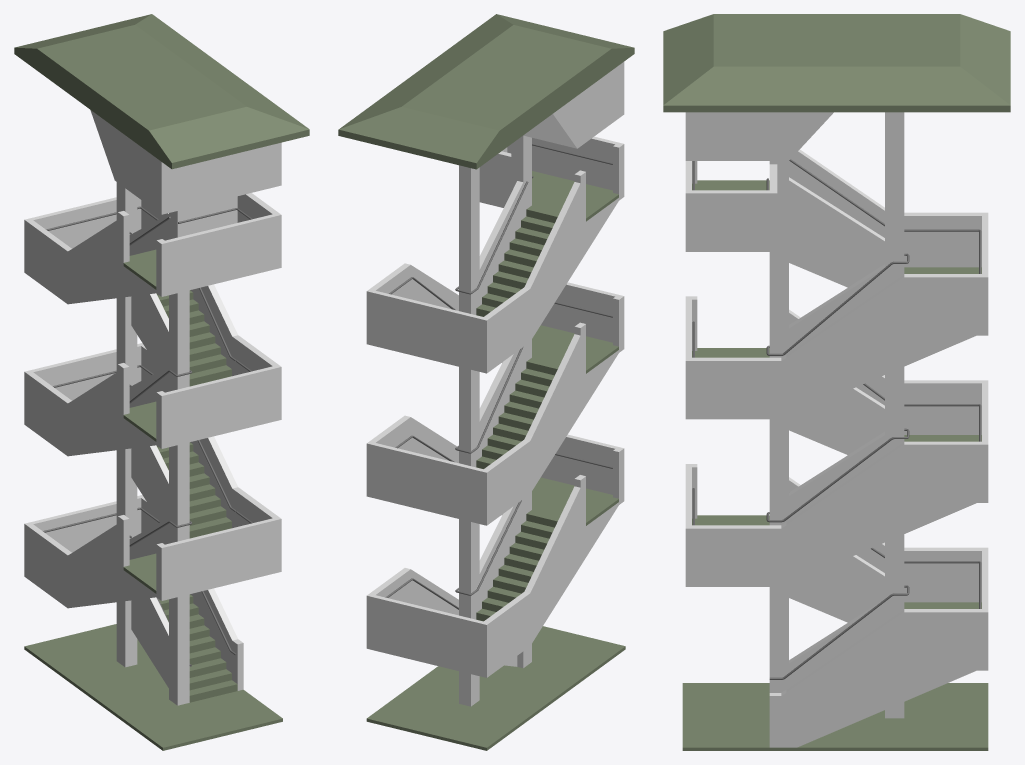
The model's file is ttubuildings1.fbx.
The picture shows the model from 3 angles, left to right: view 1: azimuth 30°, elevation 25°; view 2: azimuth 150°, elevation 25°; view 3: azimuth 270°, elevation 25°; orthographic projection. The views are drawn at different scales.
Parts seen in each view (by area): view 1: Cube.088, Cube.065, Vert.009; view 2: Cube.088, Cube.065, Vert.009; view 3: Cube.088, Cube.065, Vert.009.
Part boxes in pixels (left/top/right/bottom): Cube.088: left=24, top=110, right=281, bottom=705; Cube.065: left=14, top=14, right=309, bottom=750; Vert.009: left=43, top=206, right=252, bottom=666; Cube.088: left=366, top=62, right=624, bottom=706; Cube.065: left=338, top=14, right=634, bottom=750; Vert.009: left=385, top=143, right=612, bottom=609; Cube.088: left=685, top=112, right=988, bottom=747; Cube.065: left=663, top=14, right=1010, bottom=750; Vert.009: left=692, top=159, right=981, bottom=679.
Bounding box in the file's own units: 460 × 1943 × 910.
